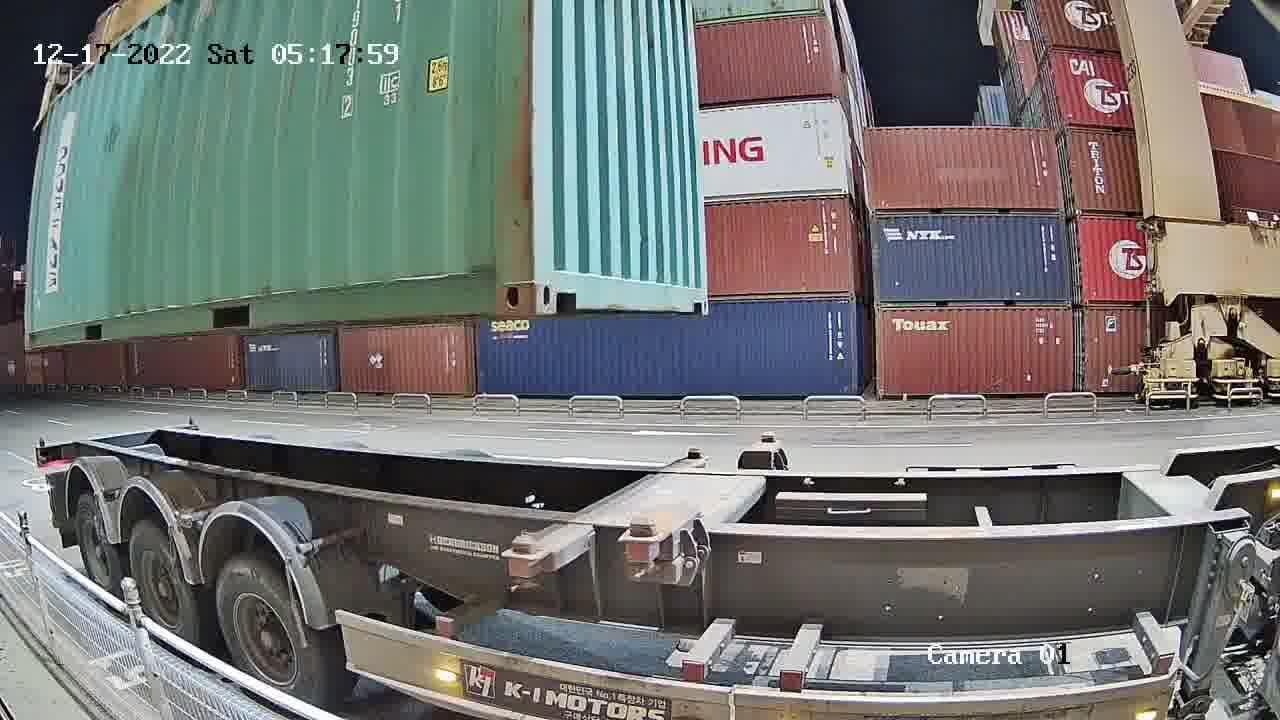Chassis: (510, 449, 713, 576)
Cone: (511, 570, 548, 599)
Container: (532, 239, 710, 317)
Hole_L: (535, 239, 566, 315)
Hole_R: (474, 239, 533, 314), (686, 264, 708, 314)
Tire: (212, 558, 325, 701), (126, 525, 201, 642), (72, 499, 123, 600)
